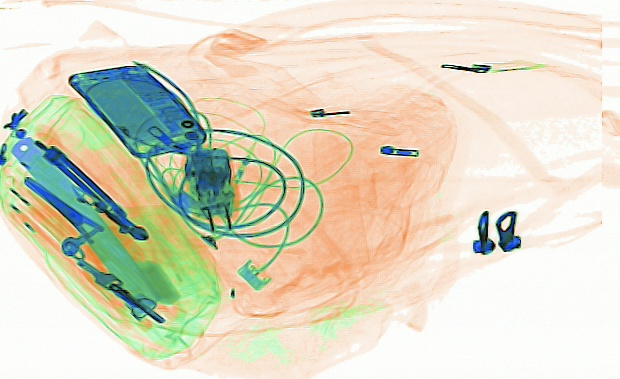scissors: (21, 172, 152, 283)
